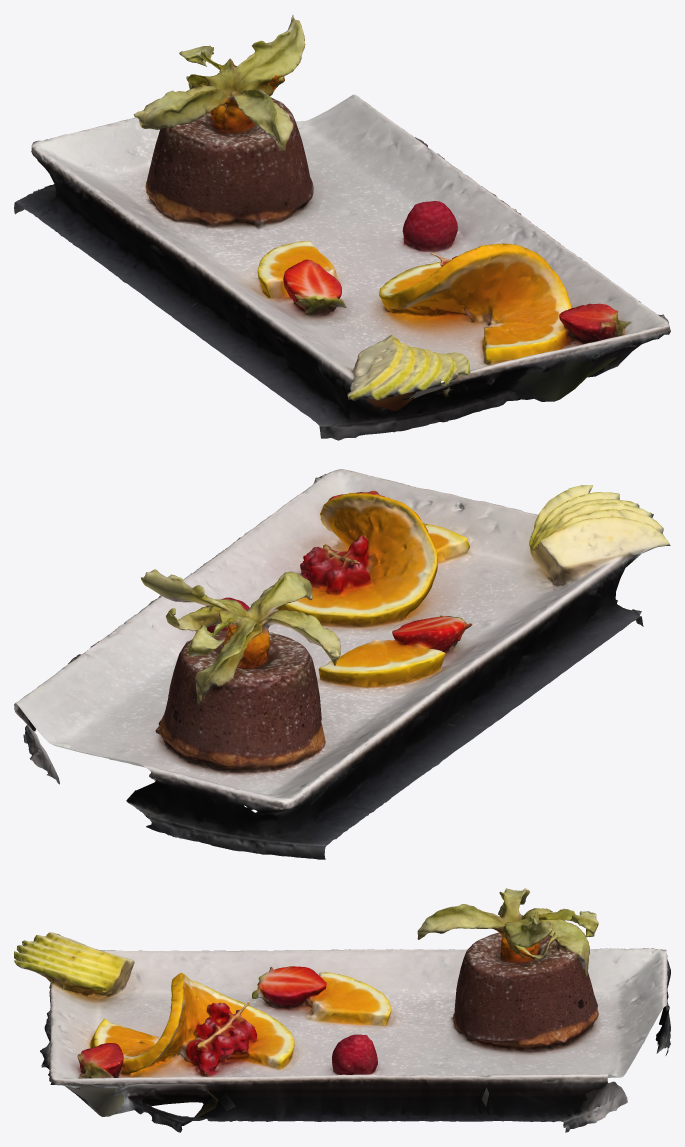
The picture shows the model from 3 angles, top to bottom: view 1: azimuth 30°, elevation 25°; view 2: azimuth 150°, elevation 25°; view 3: azimuth 270°, elevation 25°; orthographic projection. The views are drawn at different scales.
Parts seen in each view (by area): view 1: Mesh_0_Part_0; view 2: Mesh_0_Part_0; view 3: Mesh_0_Part_0.
Boxes of the visible parts, bbox=[...] form: Mesh_0_Part_0: bbox=[14, 15, 670, 440]; Mesh_0_Part_0: bbox=[14, 469, 670, 859]; Mesh_0_Part_0: bbox=[14, 888, 670, 1132].
Bounding box in the file's own units: 0.2297 × 0.1202 × 0.4377.
Materials: 1 (1 with a texture image).
